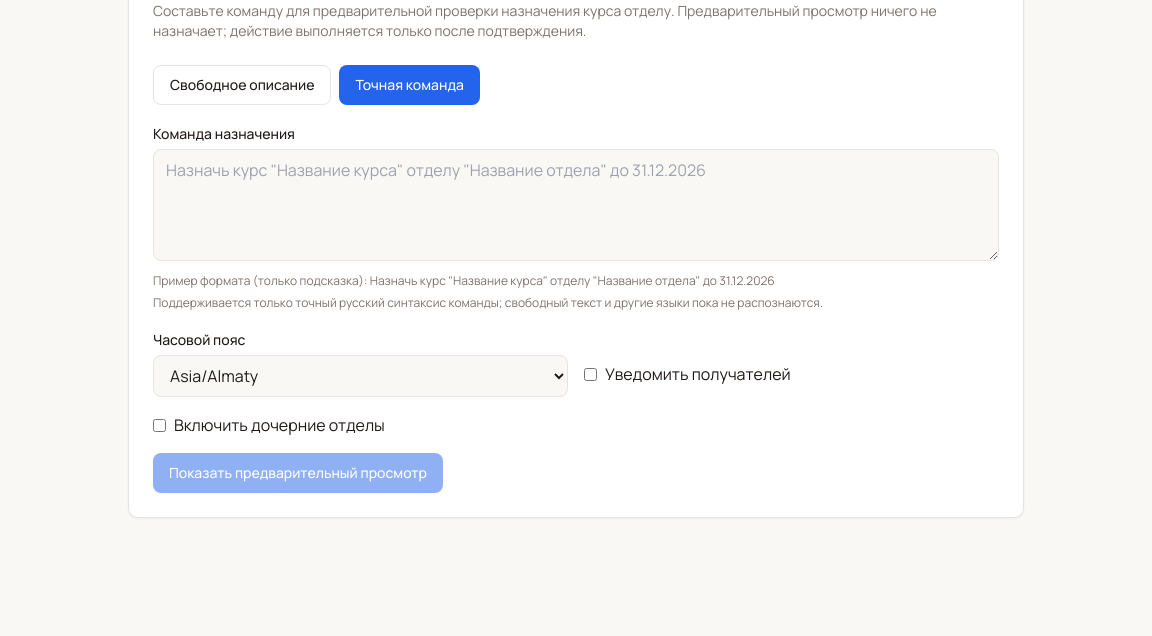
it: AssignmentWorkbench › preserves a typed draft and accepted preview across locale switch
Replace the text in the text box labelled "Команда назначения" with "Назначь курс \"Safety\" отделу \"Operations\" до 31.12.2026" at (576, 205), box [153,149,999,261]
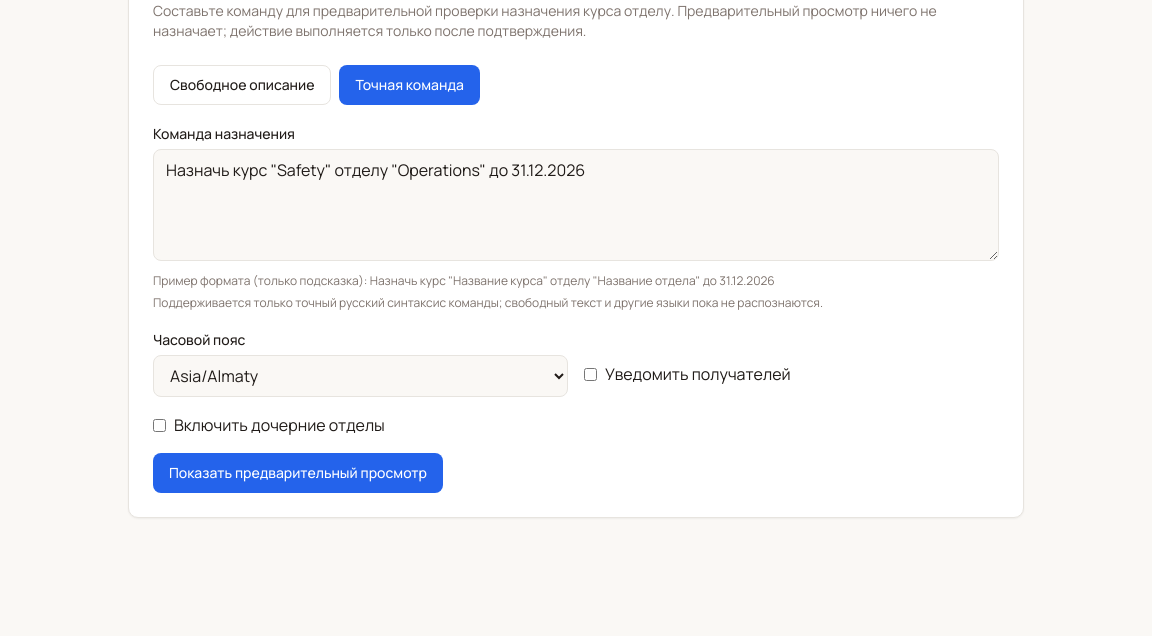
Click the button "Показать предварительный просмотр".
click(298, 473)  # box [153,453,443,493]
(page scrolled)
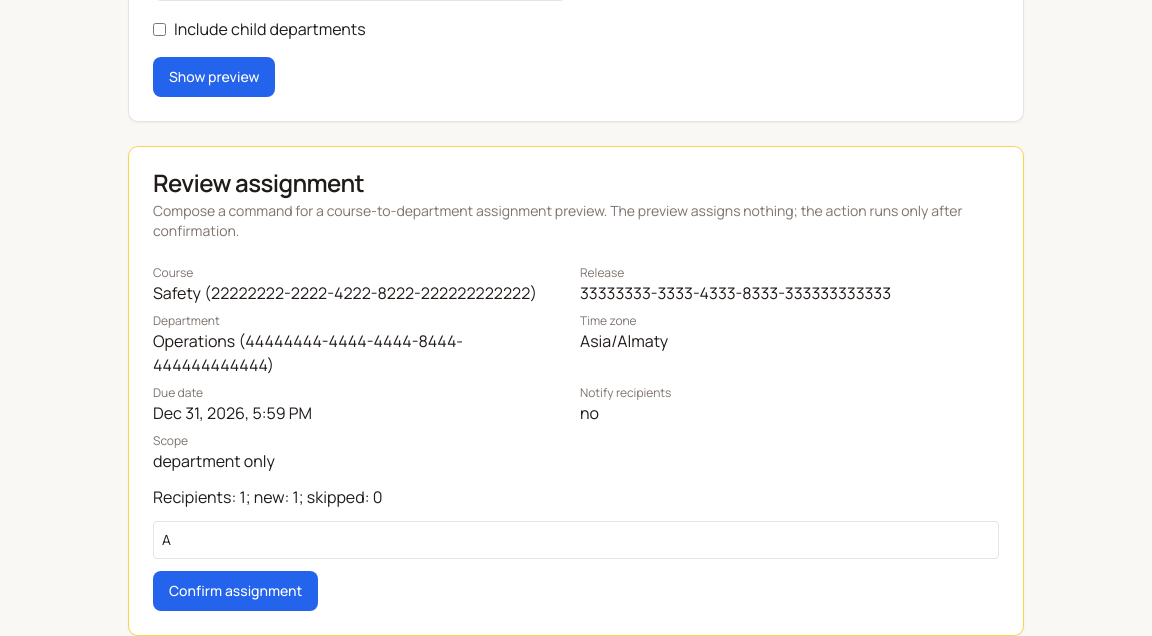
Expected: the button named "Подтвердить назначение" is shown
Expected: the button "Confirm assignment" is enabled
Click the button "Confirm assignment".
click(236, 591)  # box [153,571,318,611]
(page scrolled)
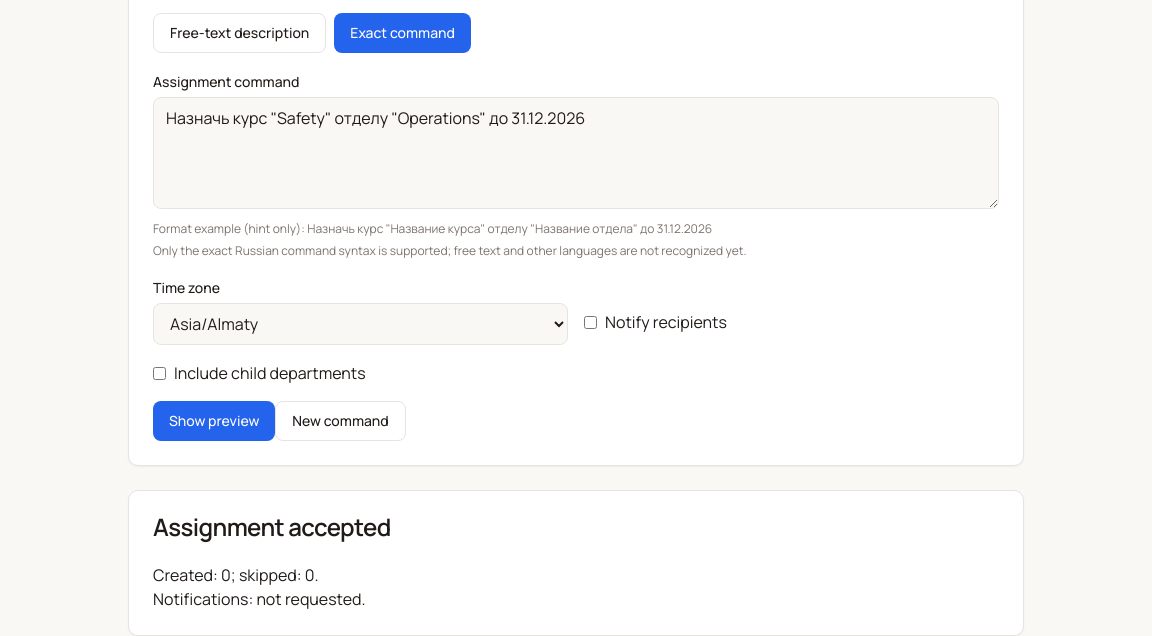
Expected: the heading "Assignment accepted" is shown, [153,510,391,543]
